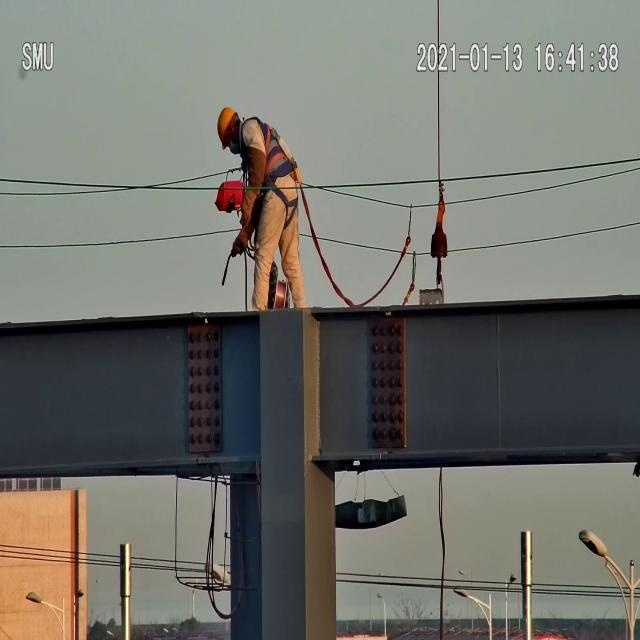Arnes_seguridad: (239, 113, 301, 194)
